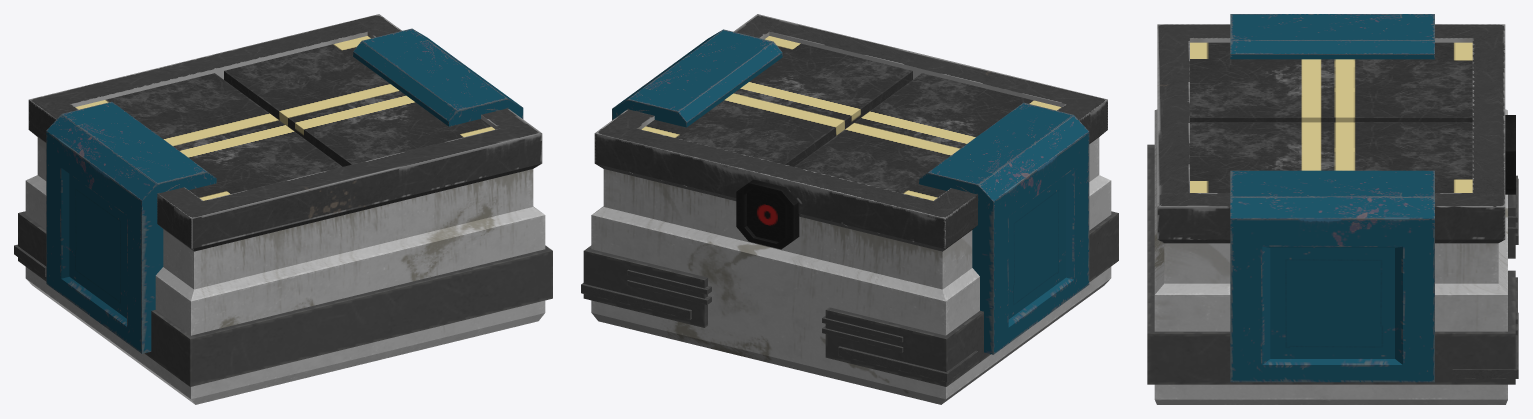
File: Box_Ani_Opening.FBX
3 renders of one model, left to right at view 1: azimuth 30°, elevation 25°; view 2: azimuth 150°, elevation 25°; view 3: azimuth 270°, elevation 25°, orthographic. The views are drawn at different scales.
Parts seen in each view (by area): view 1: Box002; view 2: Box002; view 3: Box002.
Boxes of the visible parts, x1,y1,x2,y2 form: Box002: (14, 14, 552, 404); Box002: (581, 14, 1118, 404); Box002: (1147, 14, 1518, 404).
Bounding box in the file's own units: 62.24 × 30.66 × 49.14.
Materials: 1 (1 with a texture image).
